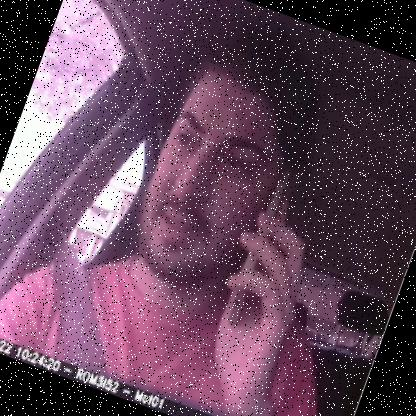phone: (209, 154, 316, 344)
